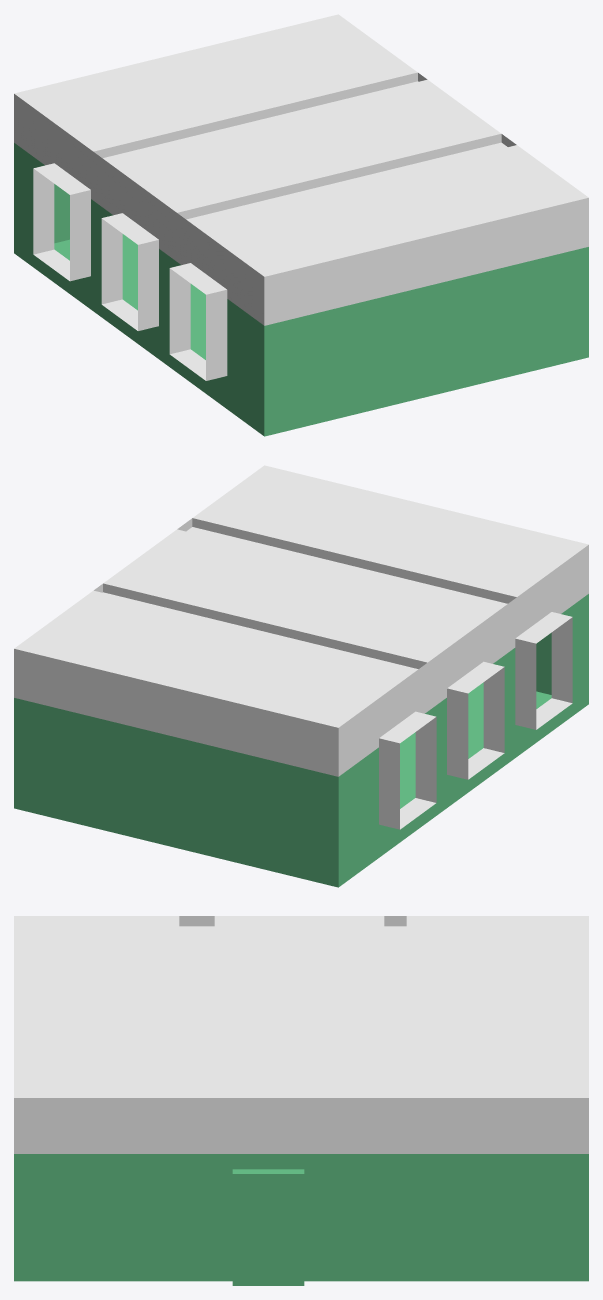
File: wals.obj
The picture shows the model from 3 angles, top to bottom: view 1: azimuth 30°, elevation 25°; view 2: azimuth 150°, elevation 25°; view 3: azimuth 270°, elevation 25°; orthographic projection. The views are drawn at different scales.
Parts seen in each view (by area): view 1: Cube.013_Cube.009; view 2: Cube.013_Cube.009; view 3: Cube.013_Cube.009.
Boxes of the visible parts, box(x1,y1,x2,y2) form: Cube.013_Cube.009: box(14, 14, 588, 436); Cube.013_Cube.009: box(14, 465, 588, 887); Cube.013_Cube.009: box(14, 916, 588, 1285).
Bounding box in the file's own units: 8.4 × 3.62 × 10.3.
